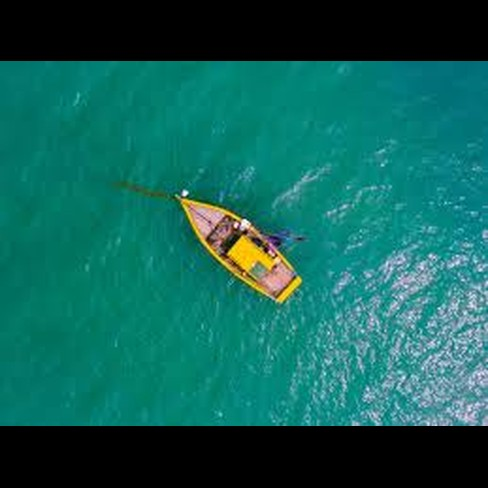boat: (169, 185, 312, 321)
